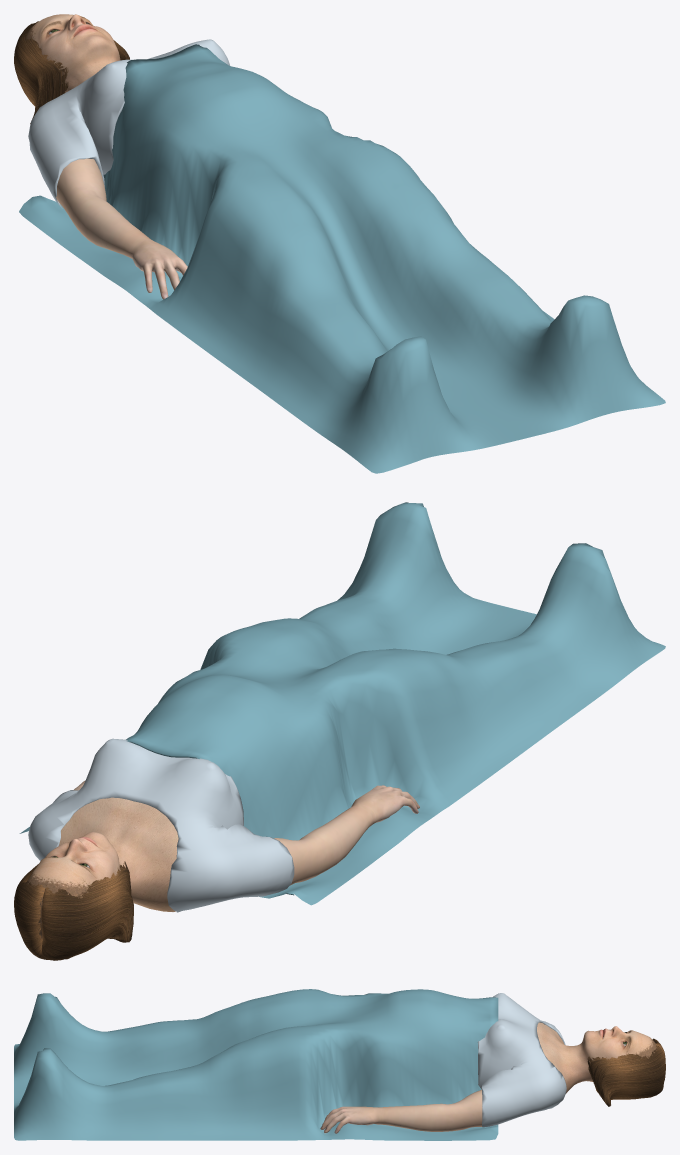
3 renders of one model, top to bottom at view 1: azimuth 30°, elevation 25°; view 2: azimuth 150°, elevation 25°; view 3: azimuth 270°, elevation 25°, orthographic. The views are drawn at different scales.
Parts seen in each view (by area): view 1: sheet, gown, arms, body, hair; view 2: sheet, gown, body, hair, arms; view 3: sheet, gown, arms, body, hair.
Part boxes in pixels (box(x1,y1,x2,y2)): sheet: box(19, 44, 665, 473); gown: box(28, 39, 229, 208); arms: box(56, 158, 187, 299); body: box(25, 14, 120, 92); hair: box(14, 21, 129, 123); sheet: box(19, 502, 665, 905); gown: box(28, 738, 294, 912); body: box(27, 797, 178, 938); hair: box(14, 861, 133, 960); arms: box(73, 780, 419, 885); sheet: box(14, 989, 498, 1140); gown: box(477, 993, 566, 1127); arms: box(320, 1089, 482, 1133); body: box(537, 1022, 656, 1093); hair: box(587, 1038, 665, 1106).
Size of the model in its own units: 0.6394 by 0.2958 by 1.82.
Materials: 8 (6 with a texture image).
